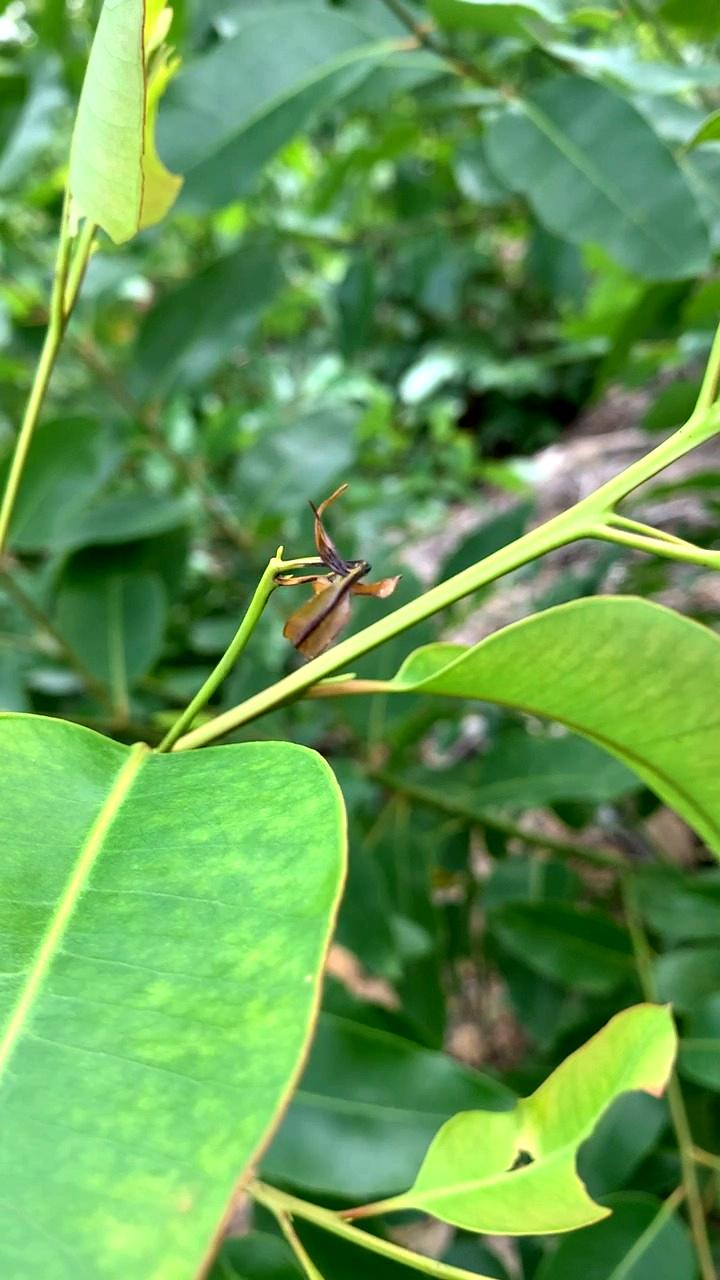Helopeltis-Withered Sprout: (266, 490, 401, 665)
